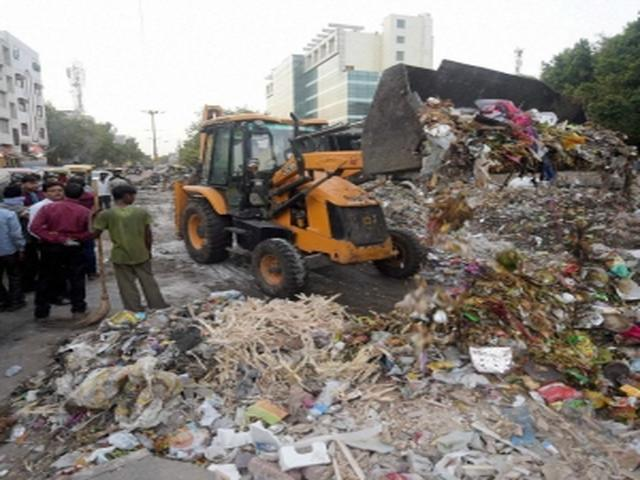garbage: (110, 328, 627, 459), (433, 107, 640, 401)
